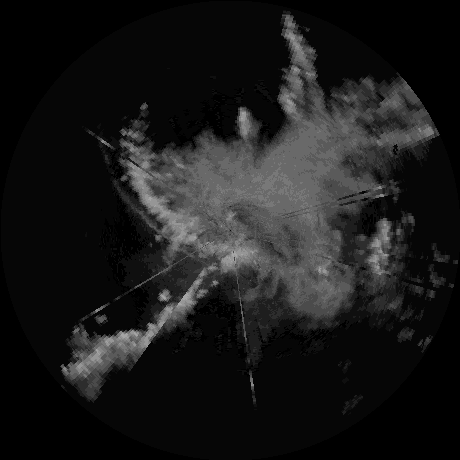frontgust: (102, 150, 162, 232), (181, 249, 206, 264)
